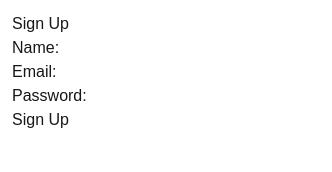
SignupForm › submits form successfully and redirects
The width and height of the screenshot is (332, 172).
Type "John Doe" into the field labelled "Name:". click: {"x": 163, "y": 48}
box: [59, 36, 266, 60]
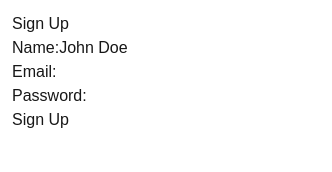
Type "john@example.com" into the field labelled "Email:". click: {"x": 160, "y": 72}
box: [56, 60, 264, 84]
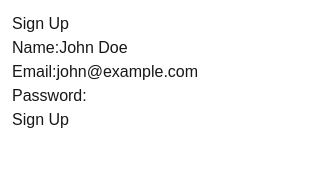
Type "secret123" into the password field labelled "Password:". click: {"x": 190, "y": 96}
box: [87, 84, 294, 108]
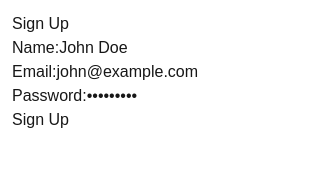
Click the button "Sign Up". click: {"x": 40, "y": 120}
box: [12, 108, 69, 132]
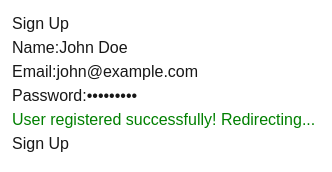
Check: the text "User registered successfully! Redirecting..." is shown, box [12, 111, 315, 128]
